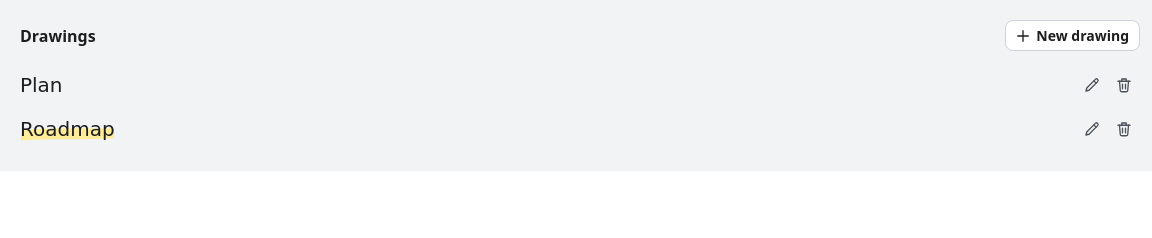
Test: DrawingList › creates a drawing with the entered name
Click the button "New drawing" at (1073, 36), box [1005,20,1140,51]
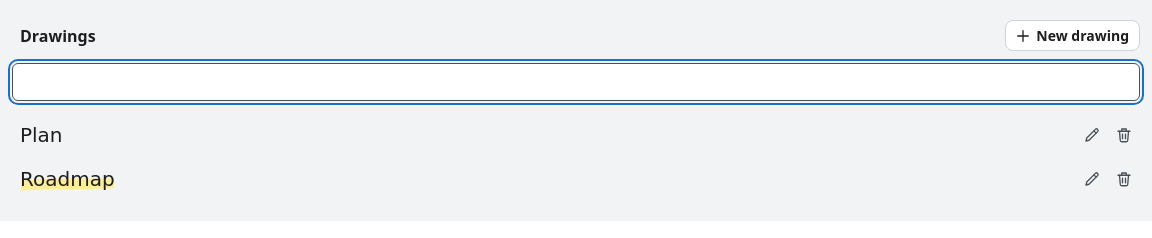
Type "Sketch" into the field named "Name of the new drawing" at (576, 82), box [12,63,1140,101]
Then press Enter
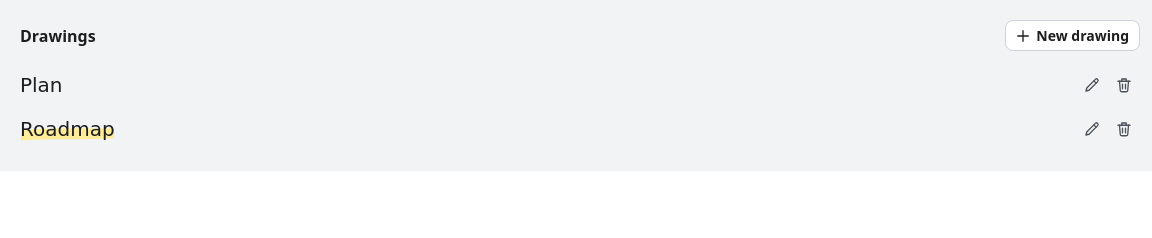
Expected: the field is gone
